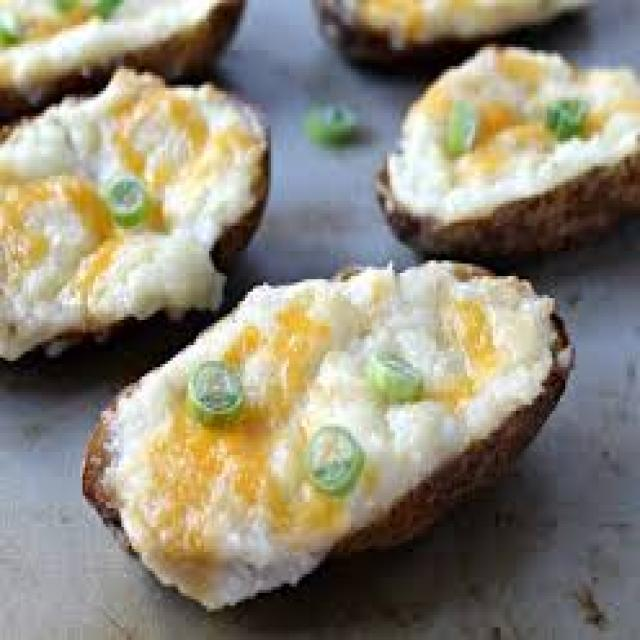Baked Potato: (122, 253, 580, 586), (387, 69, 640, 232), (6, 118, 286, 235)
